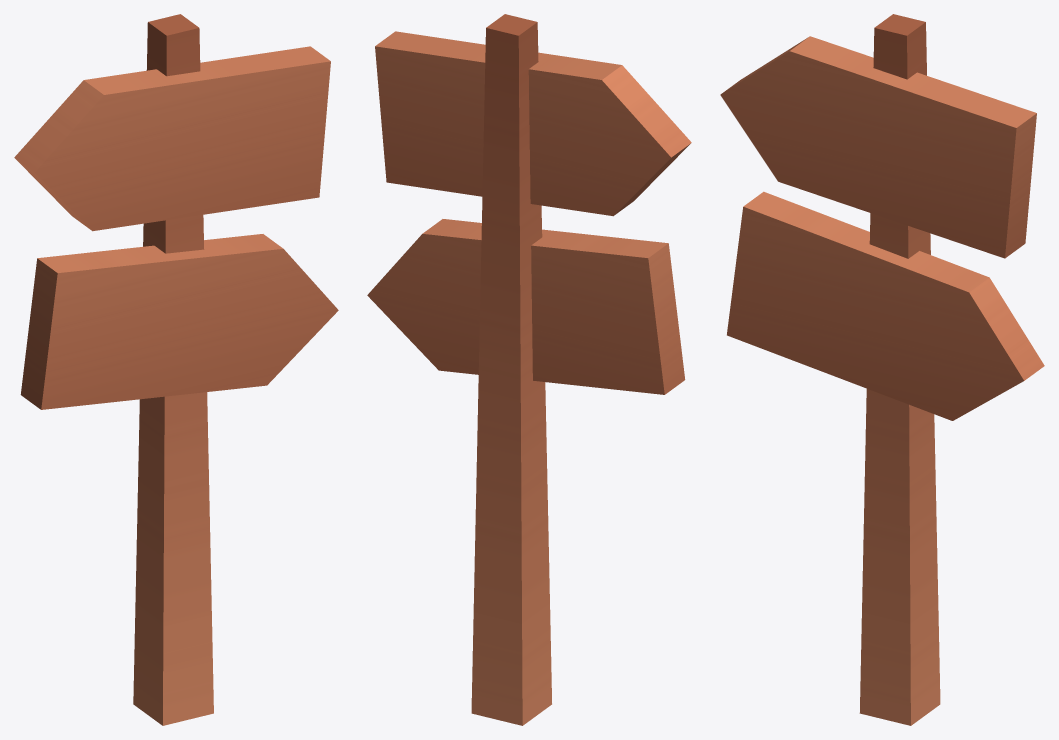
Rendered from signpost.obj.
3 renders of one model, left to right at view 1: azimuth 30°, elevation 25°; view 2: azimuth 150°, elevation 25°; view 3: azimuth 330°, elevation 25°, orthographic.
Visible parts, largest first — view 1: signpost; view 2: signpost; view 3: signpost.
Boxes of the visible parts, left/top/right/bottom form: signpost: left=14, top=14, right=338, bottom=725; signpost: left=367, top=14, right=691, bottom=725; signpost: left=720, top=14, right=1044, bottom=725.
Bounding box in the file's own units: 0.2141 × 0.4601 × 0.043.
1 material, 1 textured.
